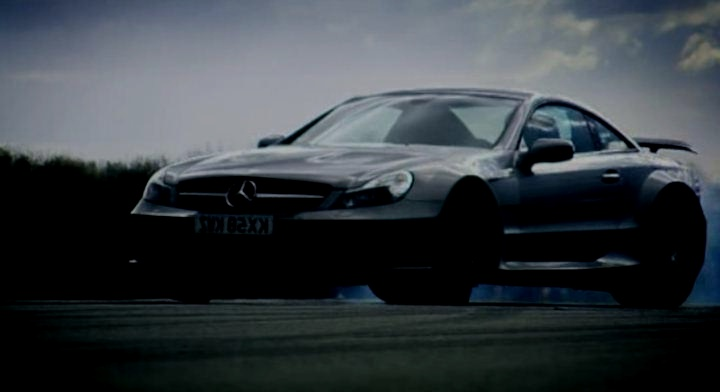car: (99, 81, 720, 345)
